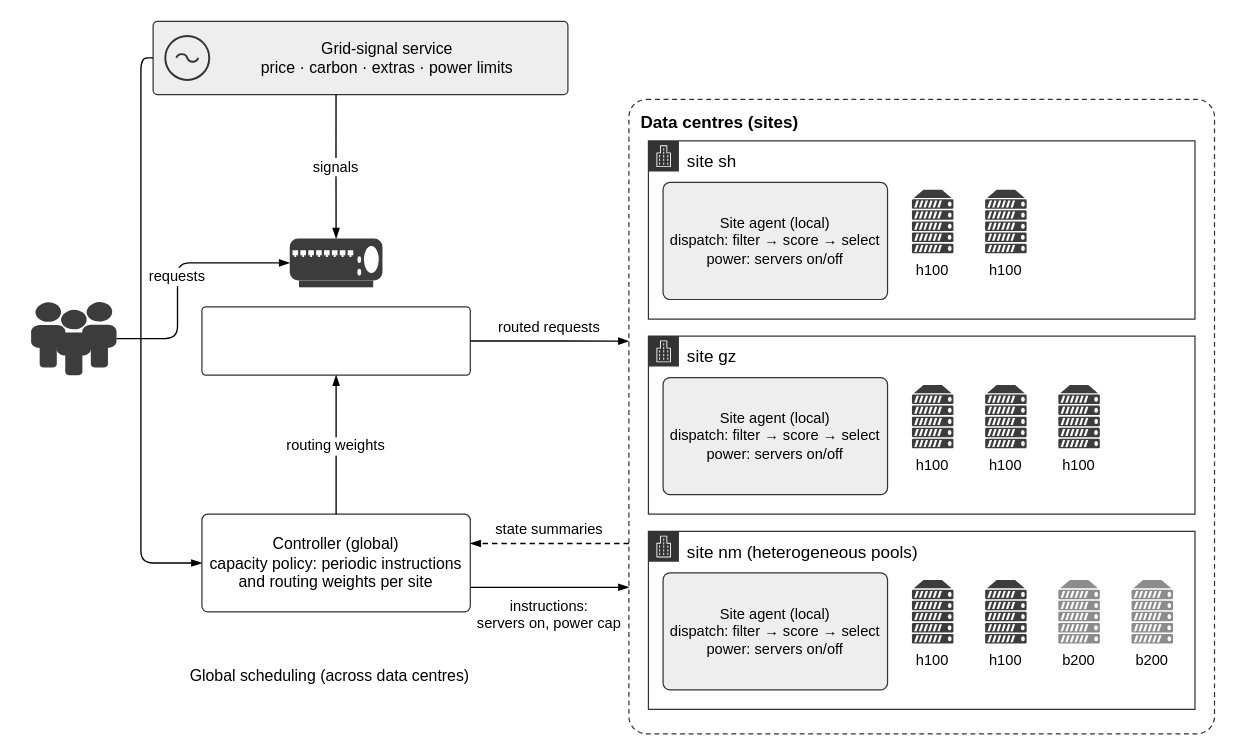
Image size: 1237x755. Some labels were removed from this diagram. The shapes that lost their labels are listed below. From the top down, each one's centre as x and y in pixels, then its label:
At pixel 73 338: "Source regions (user requests)".
At pixel 335 340: "Gateway (global) routing policy: a site per request".
